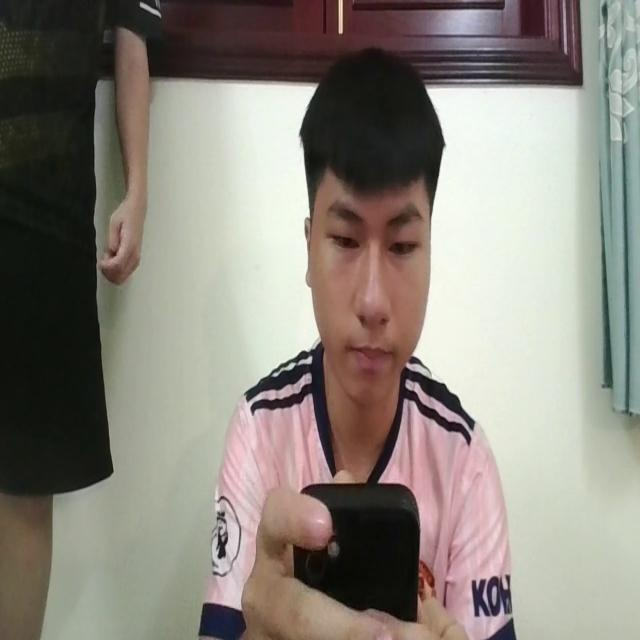extra_person: (0, 2, 162, 640)
phone: (290, 466, 421, 640)
student: (195, 37, 514, 640)
